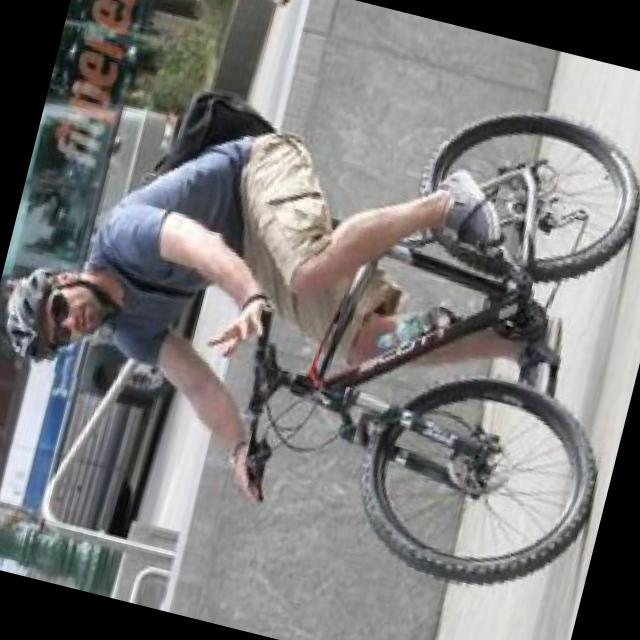With Helmet: (0, 242, 123, 381)
